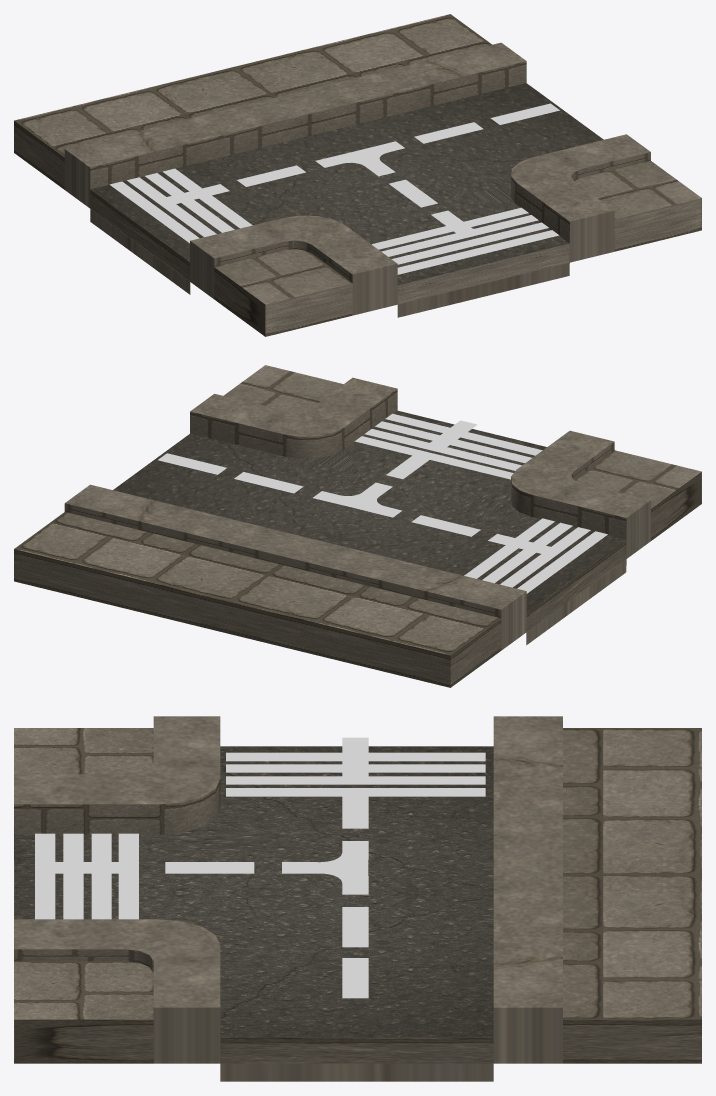
The model's file is Road_T.fbx.
3 renders of one model, top to bottom at view 1: azimuth 30°, elevation 25°; view 2: azimuth 150°, elevation 25°; view 3: azimuth 270°, elevation 25°, orthographic. The views are drawn at different scales.
Visible parts, largest first — view 1: Cube.004, Line, CrossWalk_V2, CrossWalk_V1; view 2: Cube.004, Line, CrossWalk_V2, CrossWalk_V1; view 3: Cube.004, CrossWalk_V1, Line, CrossWalk_V2.
Boxes of the visible parts, x1,y1,x2,y2 form: Cube.004: (14,14,701,336); Line: (160,103,559,238); CrossWalk_V2: (371,207,559,274); CrossWalk_V1: (109,168,252,243); Cube.004: (14,365,701,687); Line: (158,420,556,555); CrossWalk_V2: (354,413,542,479); CrossWalk_V1: (464,518,607,593); Cube.004: (14,716,701,1081); CrossWalk_V1: (226,752,485,796); Line: (49,737,368,998); CrossWalk_V2: (35,833,138,919).
Size of the model in its own units: 376 by 44.68 by 375.
